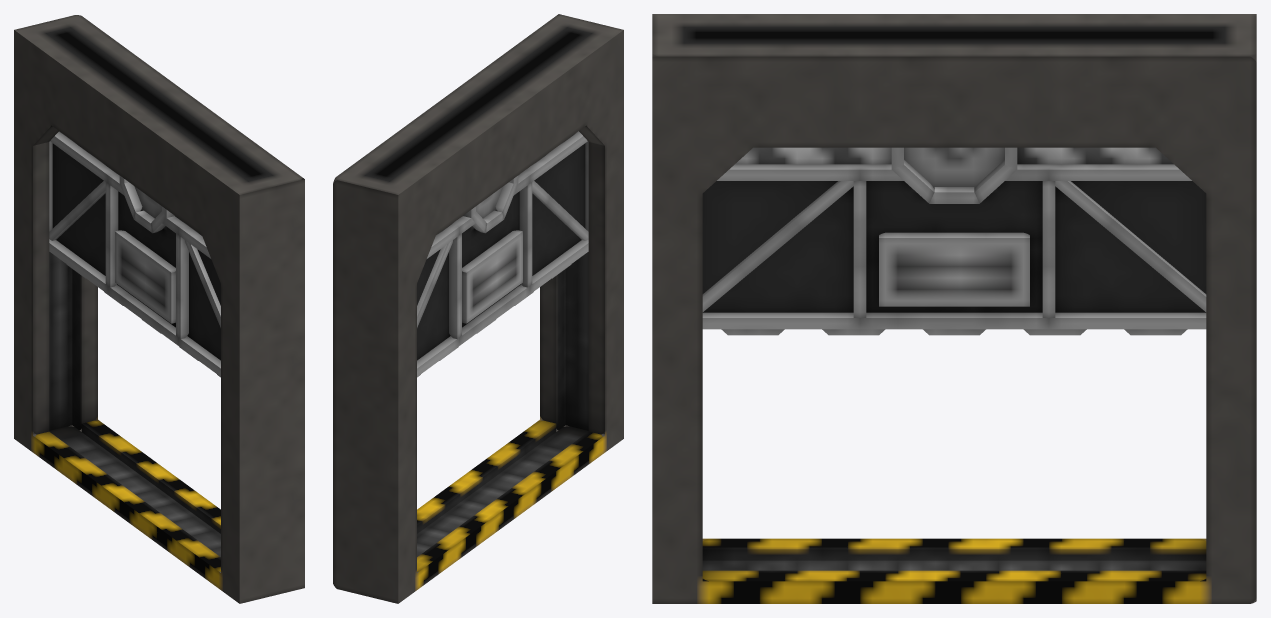
The model's file is qe_containment_94.obj.
The picture shows the model from 3 angles, left to right: view 1: azimuth 30°, elevation 25°; view 2: azimuth 150°, elevation 25°; view 3: azimuth 270°, elevation 25°; orthographic projection. The views are drawn at different scales.
Visible parts, largest first — view 1: Frame, Door; view 2: Frame, Door; view 3: Frame, Door.
Boxes of the visible parts, bbox=[...] form: Frame: bbox=[14, 15, 304, 603]; Door: bbox=[49, 131, 220, 377]; Frame: bbox=[333, 14, 623, 603]; Door: bbox=[417, 131, 588, 377]; Frame: bbox=[652, 14, 1256, 603]; Door: bbox=[702, 147, 1206, 335].
Size of the model in its own units: 0.5 by 3 by 3.
